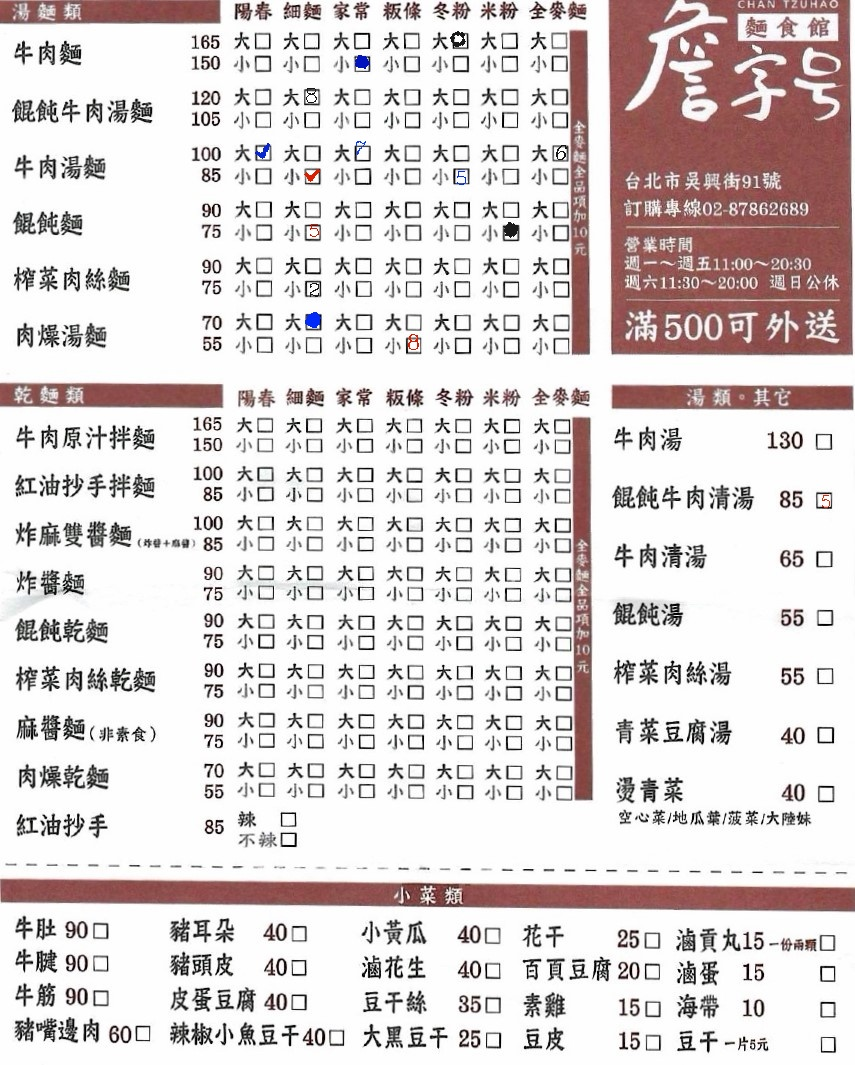marked_circle: (503, 223, 521, 240), (304, 313, 322, 330), (353, 55, 369, 72)
marked_hollow: (452, 33, 467, 48)
marked_number_2: (303, 281, 321, 298)
marked_number_5: (453, 166, 471, 183), (304, 223, 322, 240), (815, 490, 833, 507)
marked_number_6: (551, 144, 569, 161)
marked_number_7: (354, 143, 372, 160)
marked_number_8: (302, 87, 320, 104), (405, 335, 423, 352)
marked_tick: (304, 166, 322, 183), (254, 143, 272, 160)
